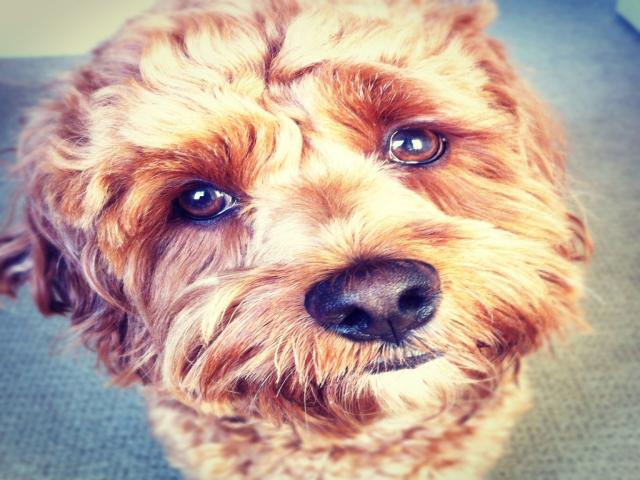Dog: (0, 0, 606, 480)
